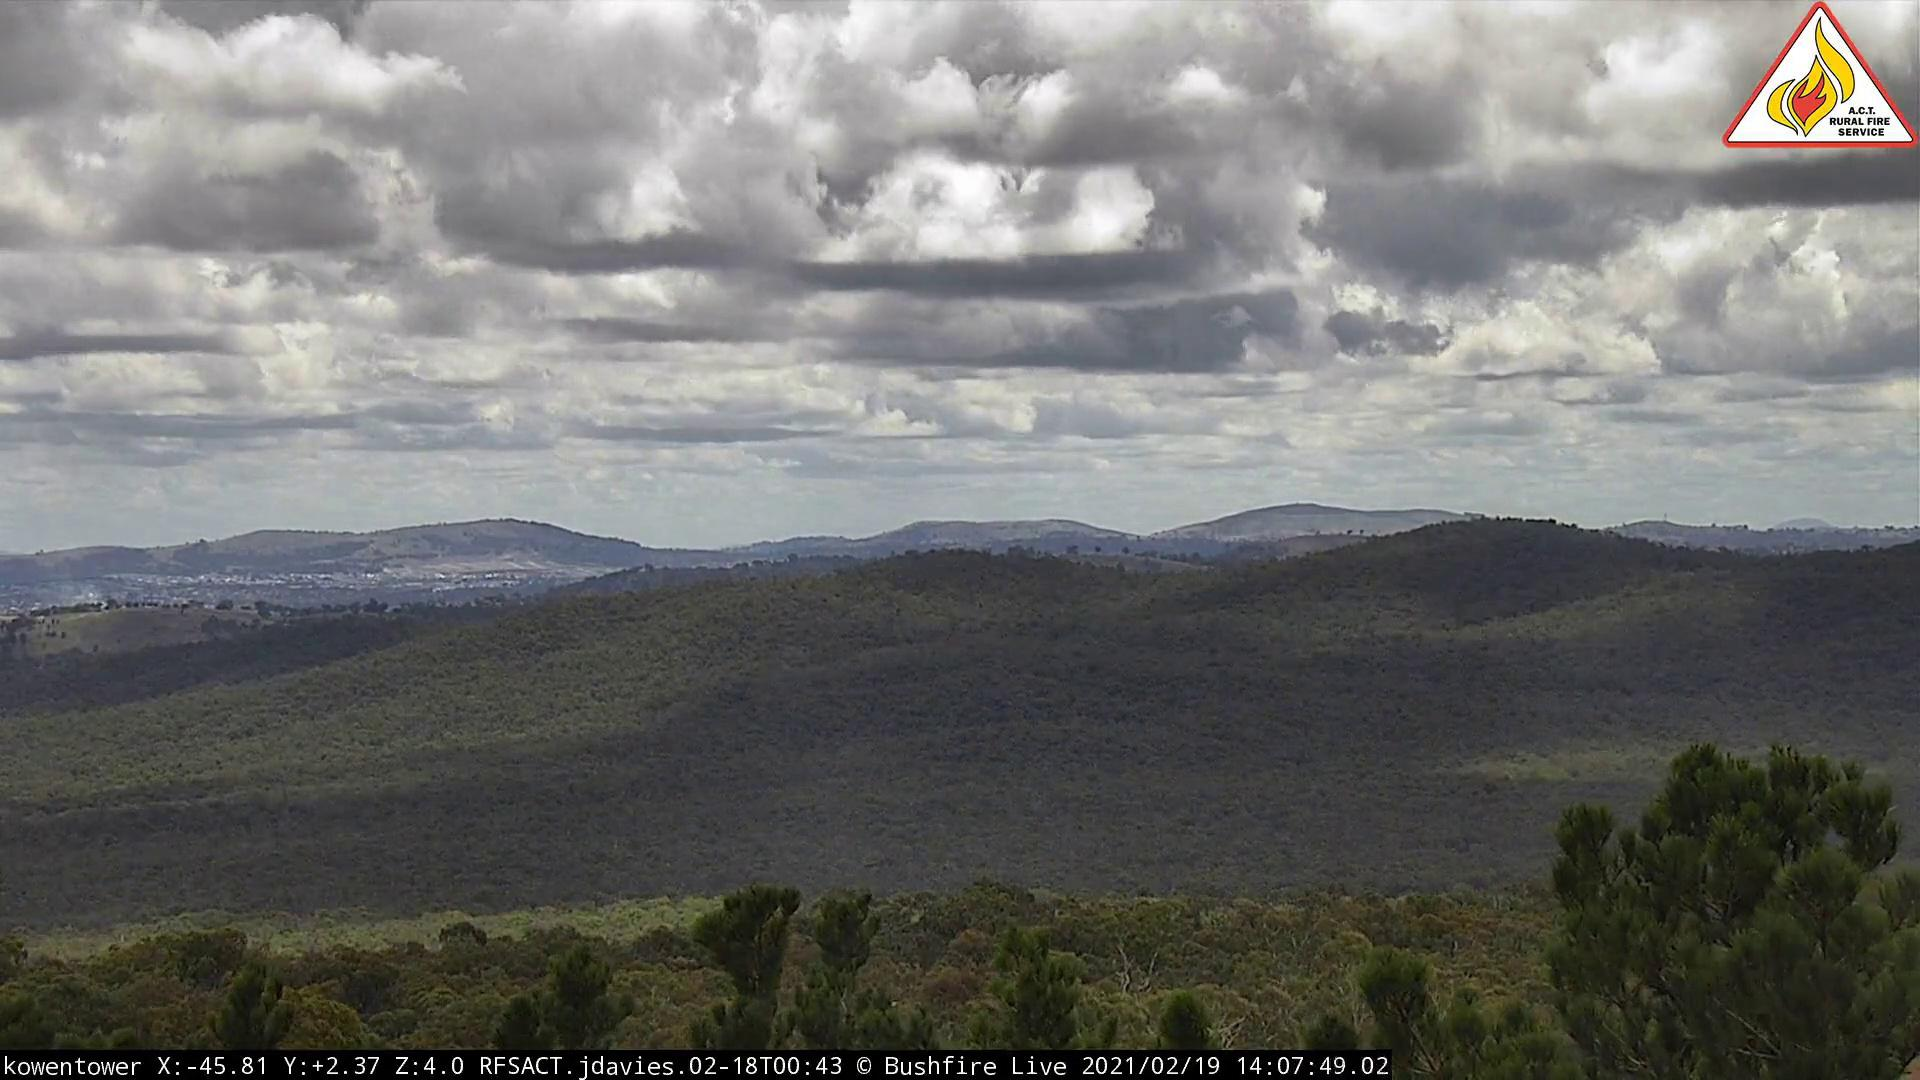instance_salient_object: (73, 583, 109, 618)
